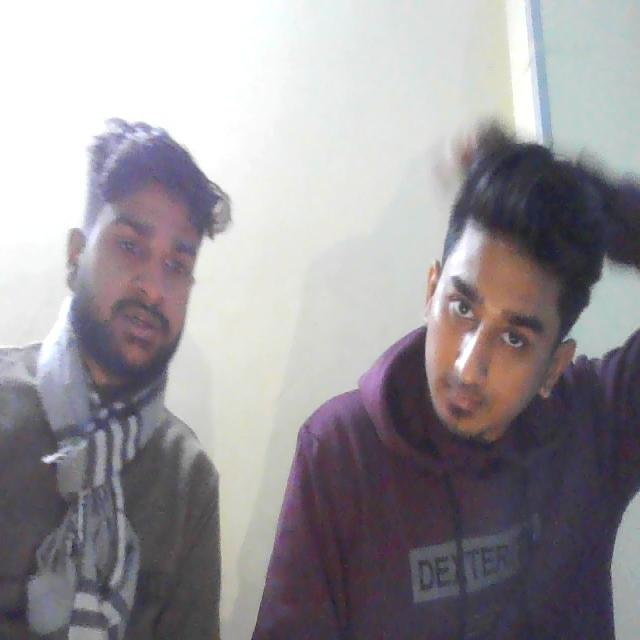real: (422, 190, 562, 453), (71, 128, 205, 381)
